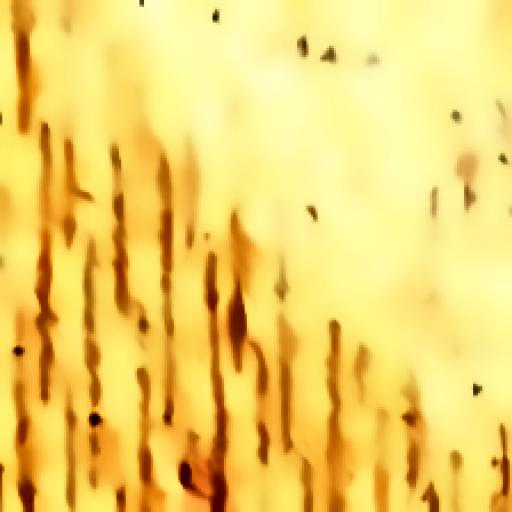egg: (172, 459, 198, 491), (318, 44, 342, 74), (446, 96, 468, 127), (297, 30, 311, 70), (84, 409, 108, 432)
